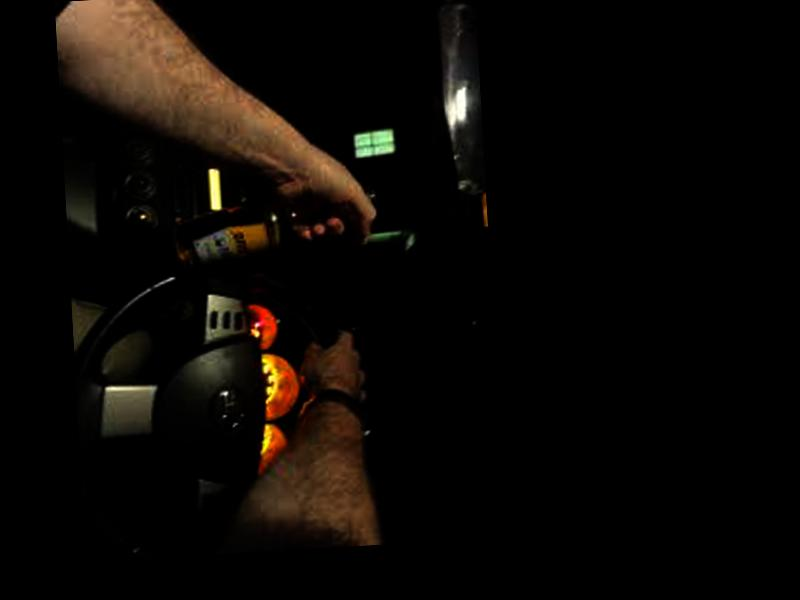Beer: (173, 185, 379, 276)
